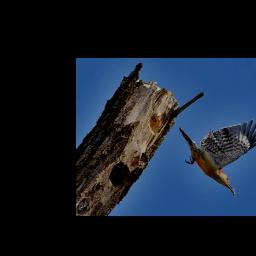Woodpecker: (179, 118, 256, 196)
